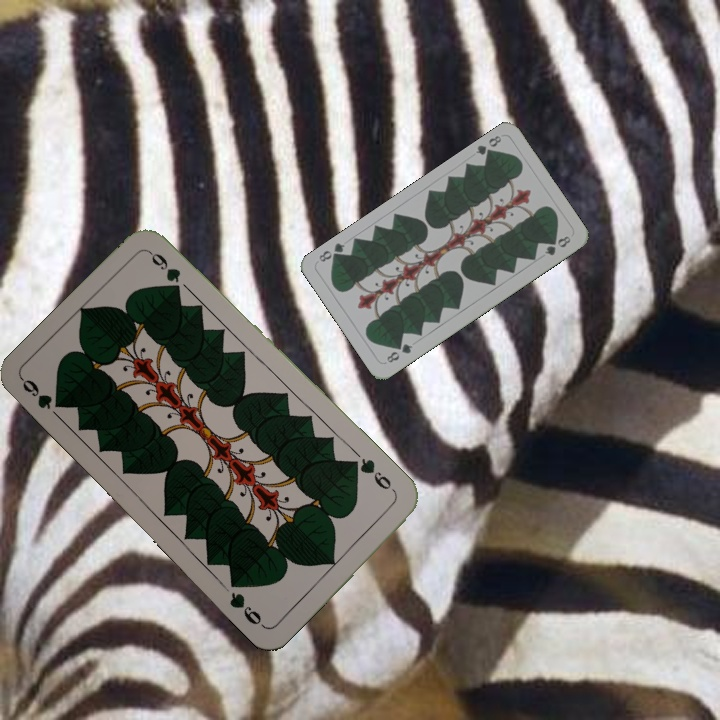G8: (471, 131, 504, 161), (382, 339, 415, 366)
G9: (349, 454, 394, 492), (18, 375, 55, 412)
